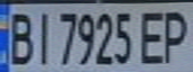2: (93, 8, 118, 66)
5: (112, 7, 139, 66)
7: (54, 7, 78, 66)
9: (72, 7, 96, 66)
B: (3, 7, 36, 66)
E: (136, 7, 169, 65)
I: (30, 7, 57, 65)
P: (157, 6, 193, 64)
